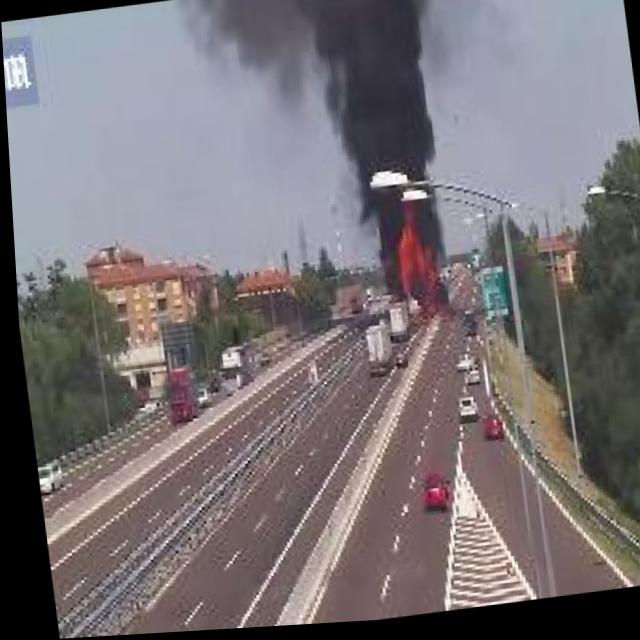fire: (379, 206, 452, 324)
